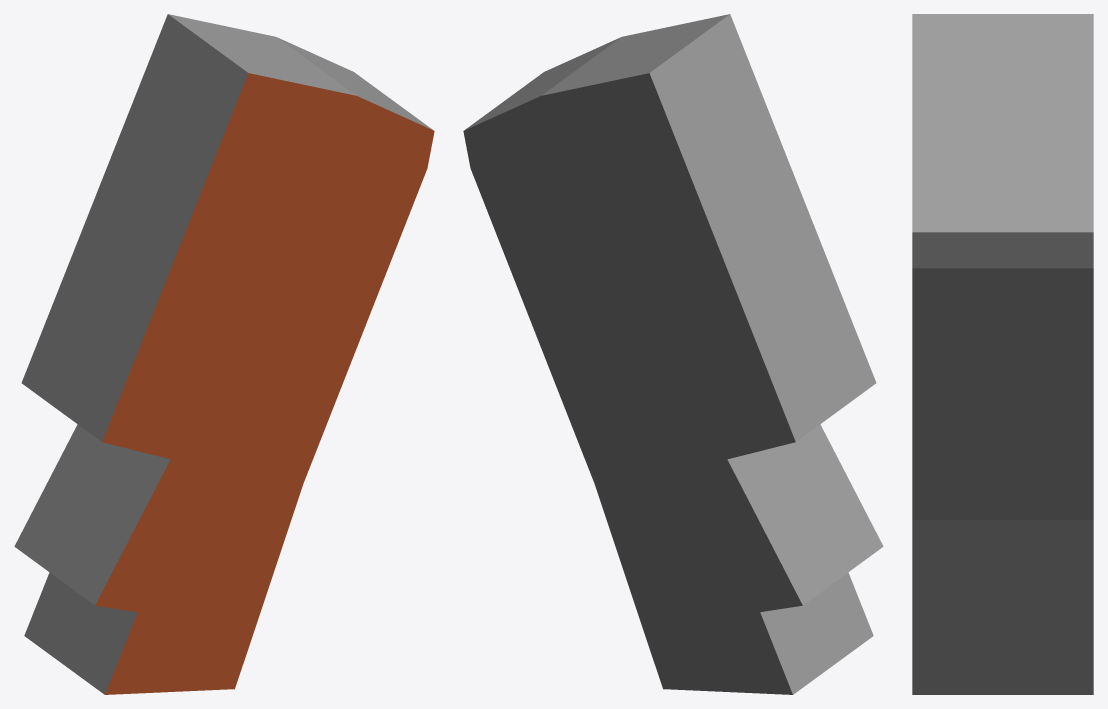
Rendered from construction_5292_assumed_A_Casa_h6m.obj.
The picture shows the model from 3 angles, left to right: view 1: azimuth 30°, elevation 25°; view 2: azimuth 150°, elevation 25°; view 3: azimuth 270°, elevation 25°; orthographic projection. The views are drawn at different scales.
Visible parts, largest first — view 1: construction_5292_assumed_A_Casa; view 2: construction_5292_assumed_A_Casa; view 3: construction_5292_assumed_A_Casa.
Boxes of the visible parts, box(x1,y1,x2,y2) form: construction_5292_assumed_A_Casa: box(14, 14, 434, 694); construction_5292_assumed_A_Casa: box(463, 14, 883, 694); construction_5292_assumed_A_Casa: box(912, 14, 1093, 694).
Bounding box in the file's own units: 14.58 × 25.14 × 6.
